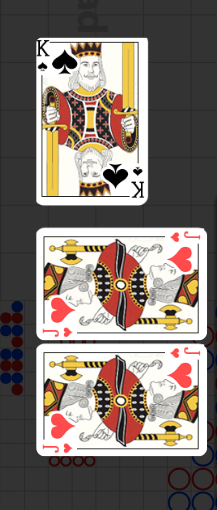JH: (42, 326, 74, 339), (42, 442, 74, 455)
KS: (36, 39, 51, 74)
